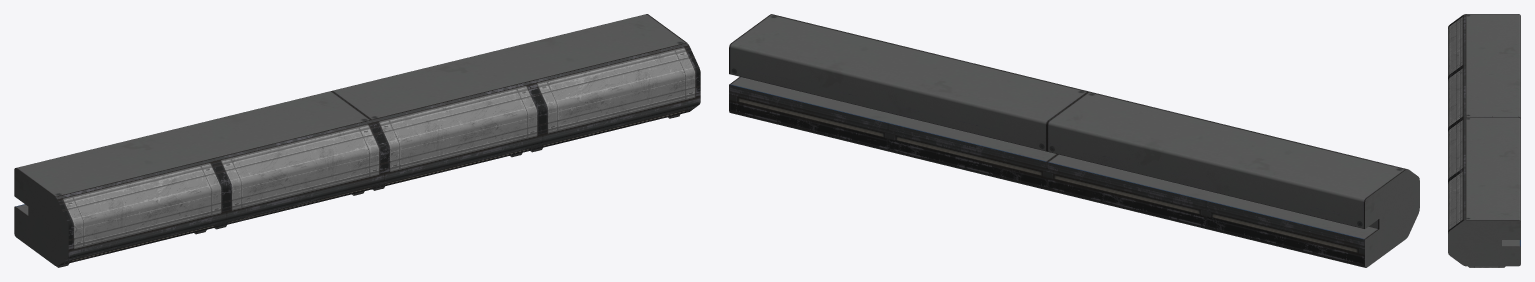
Rendered from Subway_edge_passage2.fbx.
3 views of the same model, side by side, from view 1: azimuth 30°, elevation 25°; view 2: azimuth 150°, elevation 25°; view 3: azimuth 270°, elevation 25° (orthographic). The views are drawn at different scales.
Visible parts, largest first — view 1: polySurface290; view 2: polySurface290; view 3: polySurface290.
Boxes of the visible parts, x1,y1,x2,y2 form: polySurface290: (14, 14, 700, 267); polySurface290: (729, 14, 1419, 267); polySurface290: (1448, 14, 1520, 267).
Bounding box in the file's own units: 400 × 44.8 × 59.75.
